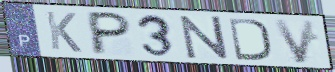3: (136, 12, 182, 59)
D: (227, 16, 273, 62)
K: (43, 9, 84, 54)
N: (178, 15, 232, 61)
P: (88, 10, 134, 56)
V: (271, 18, 318, 65)
